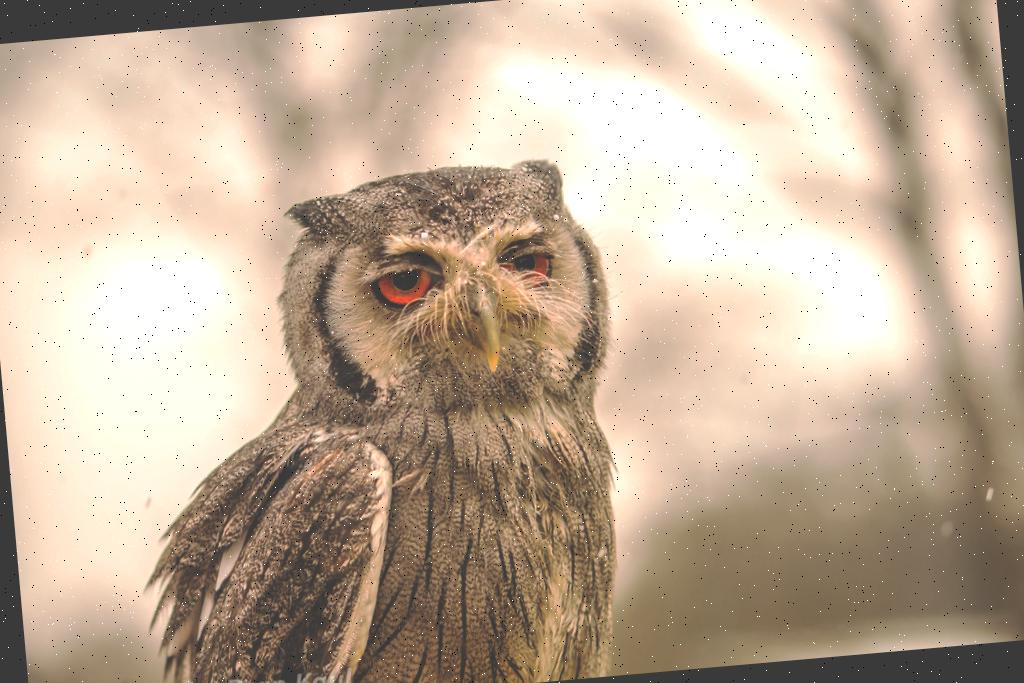Owl: (107, 154, 646, 683)
